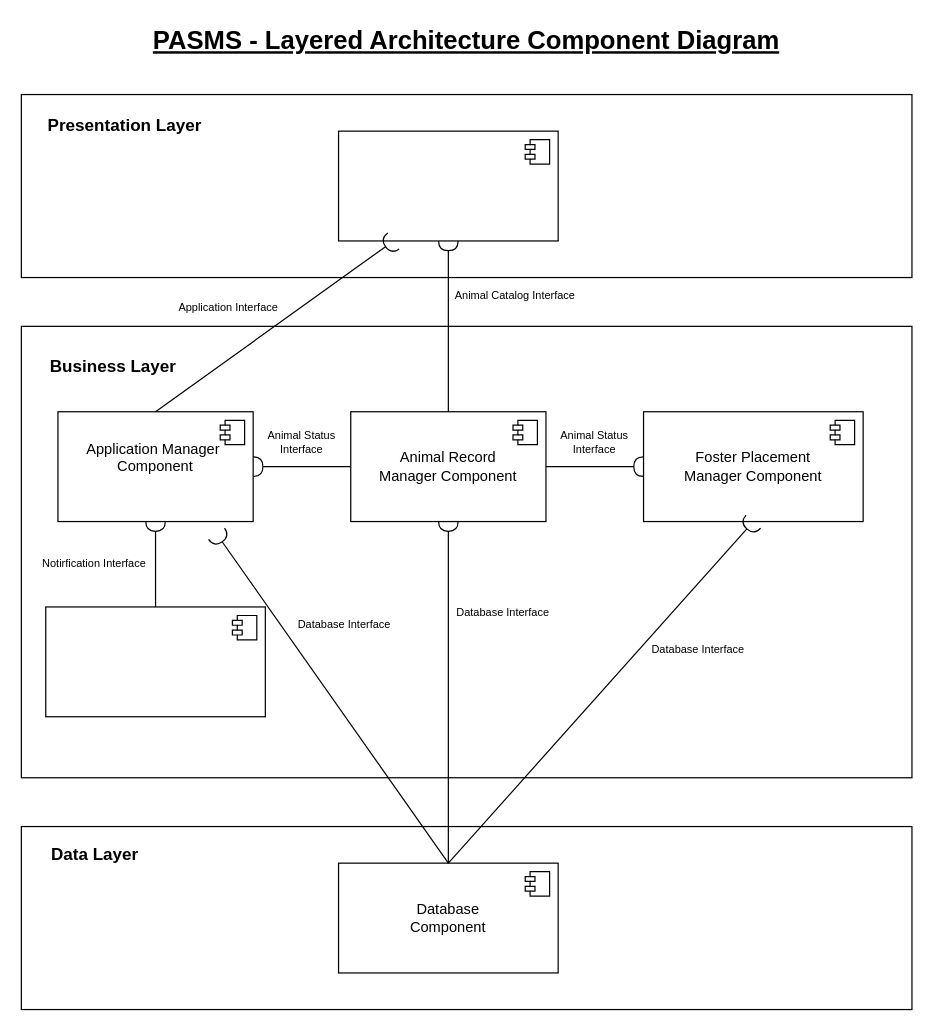
The diagram is 933 pixels wide and 1031 high, and some of its shapes have lost their labels. Here are the shapes that lost their labels. From the top down, the box of each, then its label:
(337, 130, 558, 241): User Interface Component
(45, 606, 265, 717): Notification Service Component
